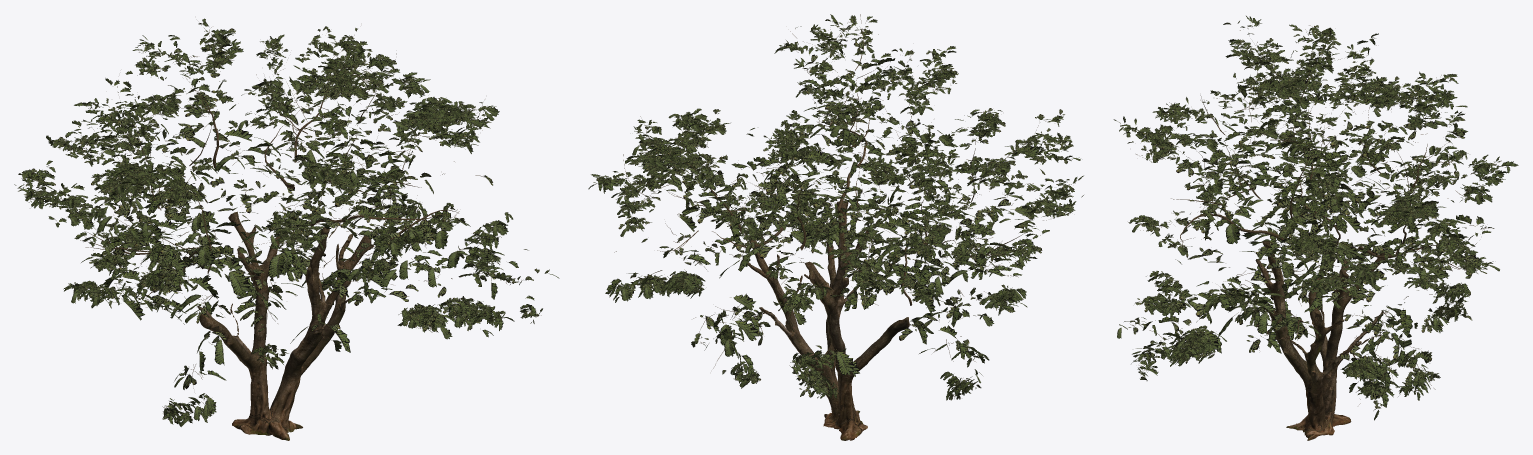
Rendered from sakura.glb.
The picture shows the model from 3 angles, left to right: view 1: azimuth 30°, elevation 25°; view 2: azimuth 150°, elevation 25°; view 3: azimuth 270°, elevation 25°; orthographic projection. The views are drawn at different scales.
Parts seen in each view (by area): view 1: jacaranda_tree_LOD0; view 2: jacaranda_tree_LOD0; view 3: jacaranda_tree_LOD0.
Part boxes in pixels (x1,y1,x2,y2): jacaranda_tree_LOD0: (14,18,559,440); jacaranda_tree_LOD0: (588,14,1083,440); jacaranda_tree_LOD0: (1113,16,1518,440).
Size of the model in its own units: 24.36 by 19.4 by 18.99.
3 materials, 3 textured.
